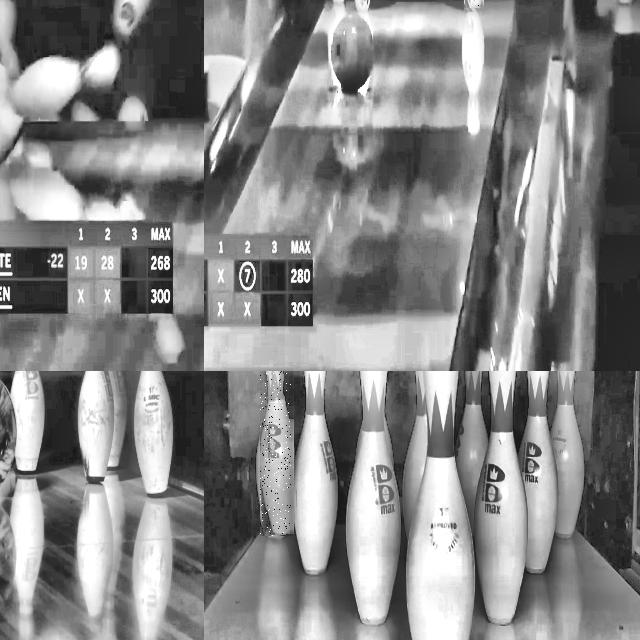bowling-ball: (330, 12, 374, 92)
bowling-pins: (407, 371, 475, 640), (346, 371, 401, 625), (474, 371, 528, 624), (292, 371, 338, 575), (519, 371, 559, 573), (455, 371, 489, 533), (552, 371, 585, 537), (261, 371, 291, 536), (135, 371, 173, 494), (403, 371, 427, 539), (11, 371, 45, 472), (108, 371, 127, 467)
